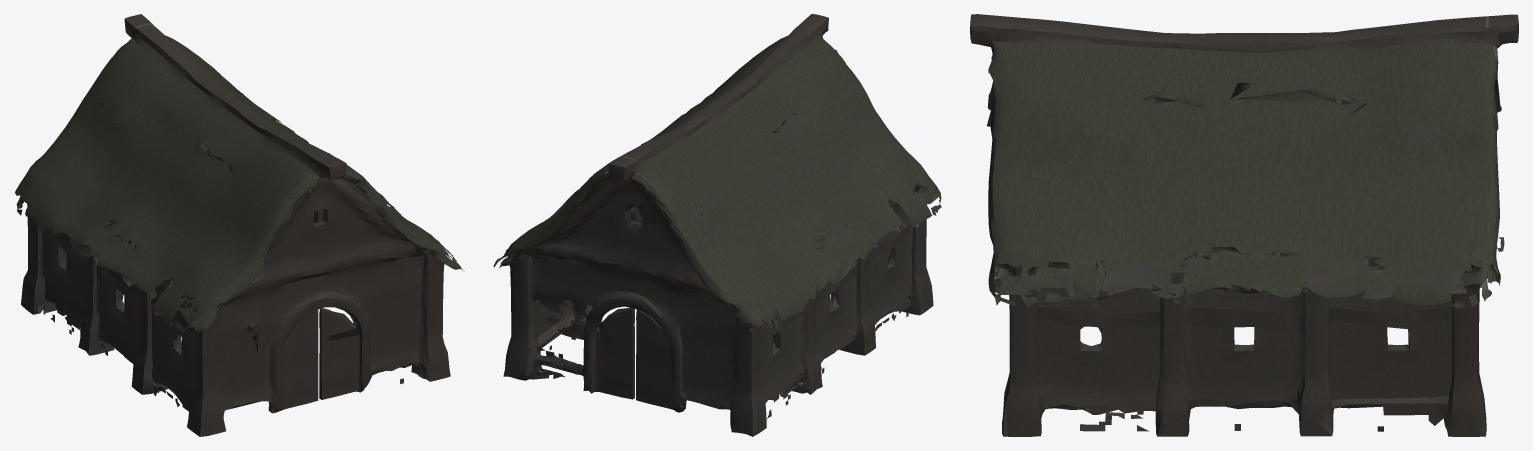
File: ok-farm-barn-meshy.glb
3 renders of one model, left to right at view 1: azimuth 30°, elevation 25°; view 2: azimuth 150°, elevation 25°; view 3: azimuth 270°, elevation 25°, orthographic. The views are drawn at different scales.
Size of the model in its own units: 1.51 by 1.28 by 1.9.
1 material, 1 textured.
